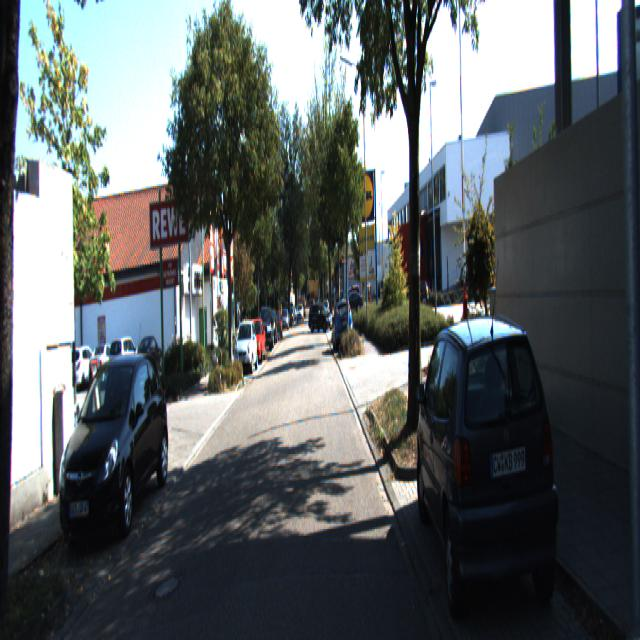Car: (412, 307, 566, 628), (58, 341, 171, 548), (608, 355, 640, 638), (65, 344, 103, 392), (108, 336, 144, 386), (134, 337, 166, 388), (89, 341, 122, 389), (234, 321, 258, 377), (334, 300, 354, 352), (246, 319, 266, 365)
